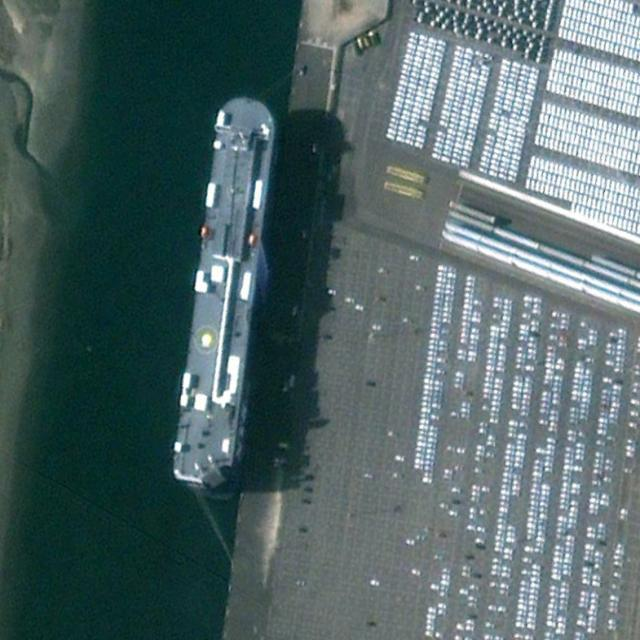RoRo: (171, 91, 280, 490)
